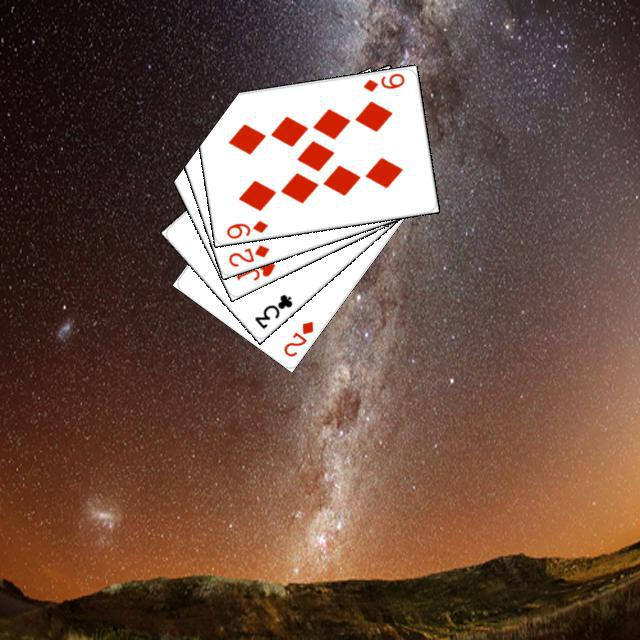2d: (278, 316, 315, 359), (223, 240, 271, 269)
3c: (249, 289, 294, 331)
9d: (358, 69, 406, 94), (221, 216, 270, 240)
Jh: (231, 257, 277, 282)
